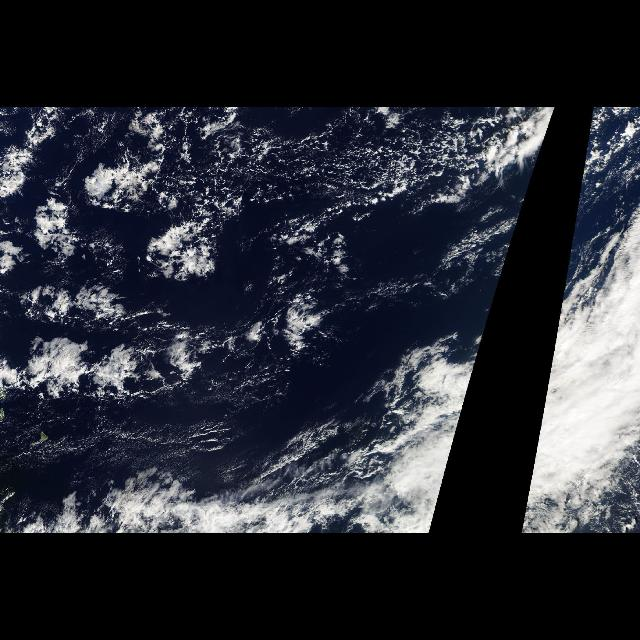Fish: (1, 273, 342, 412)
Flower: (4, 113, 280, 431)
Gravel: (139, 107, 499, 240)
